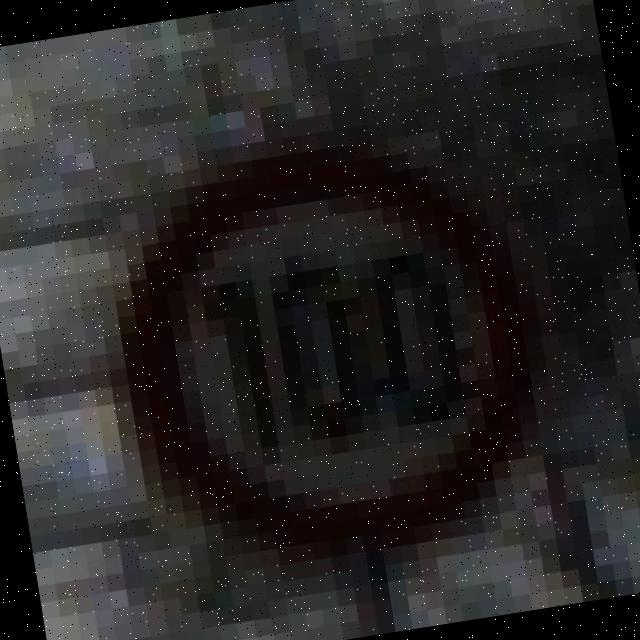Ograniczenie predkosci do 100: (113, 122, 559, 569)
